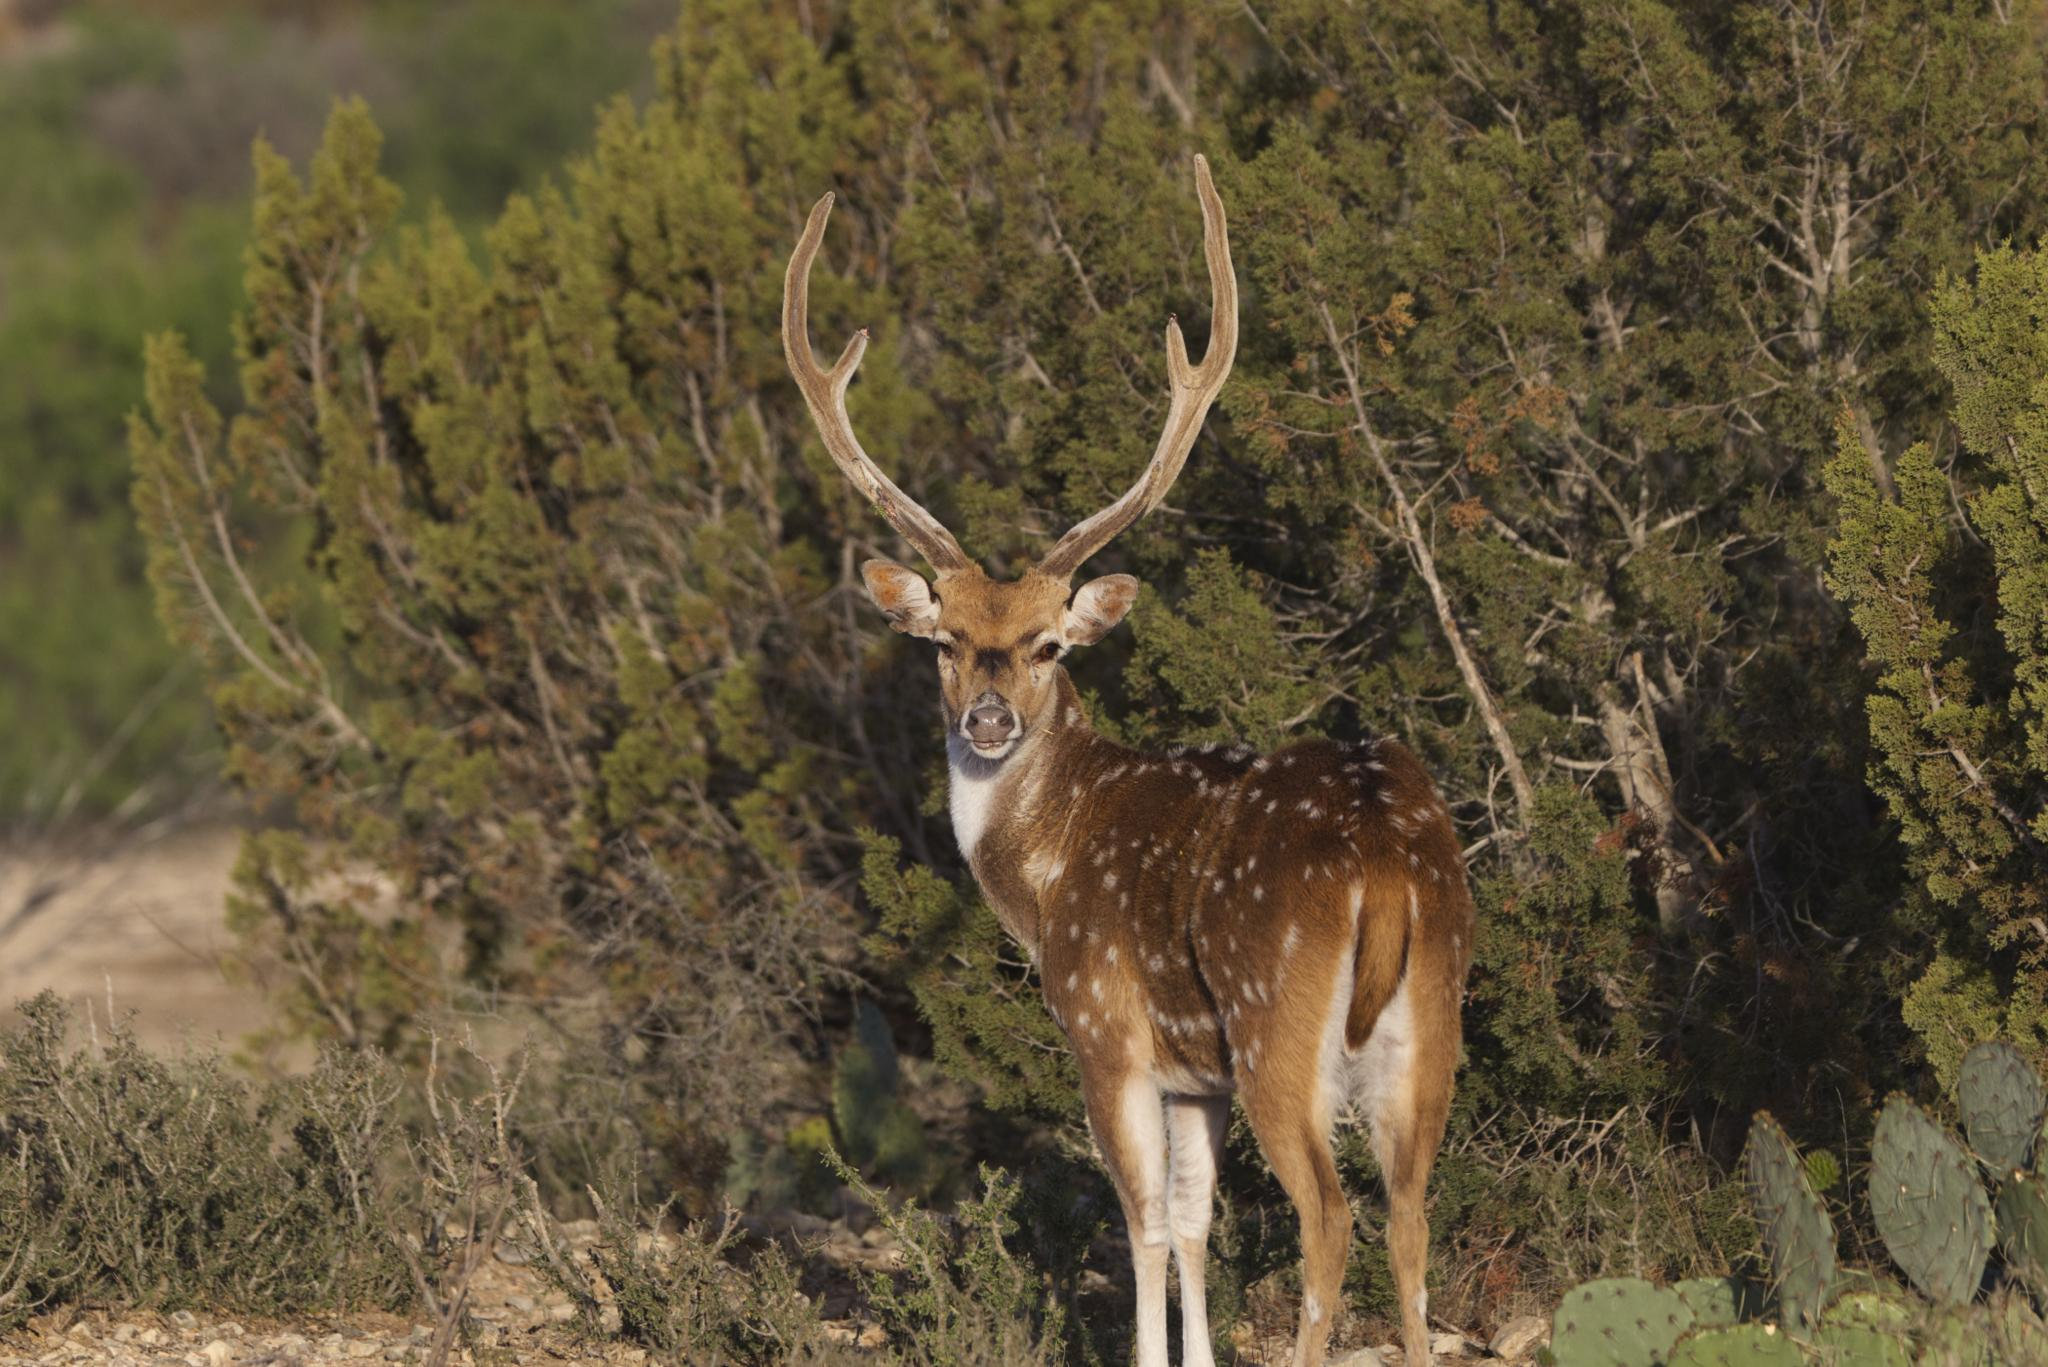Deer: (782, 159, 1472, 1366)
